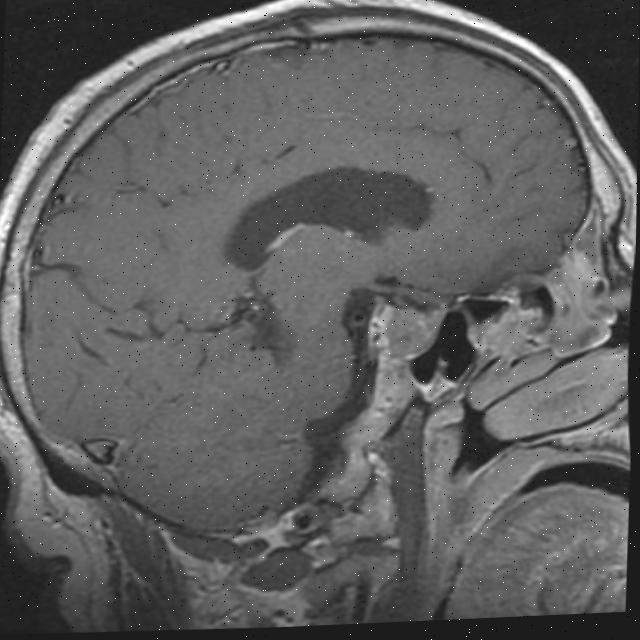Pituitary: (366, 292, 442, 363)
